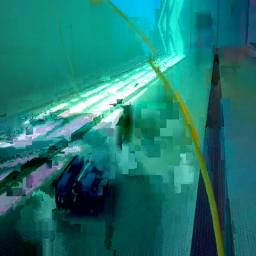front: (50, 155, 110, 214)
